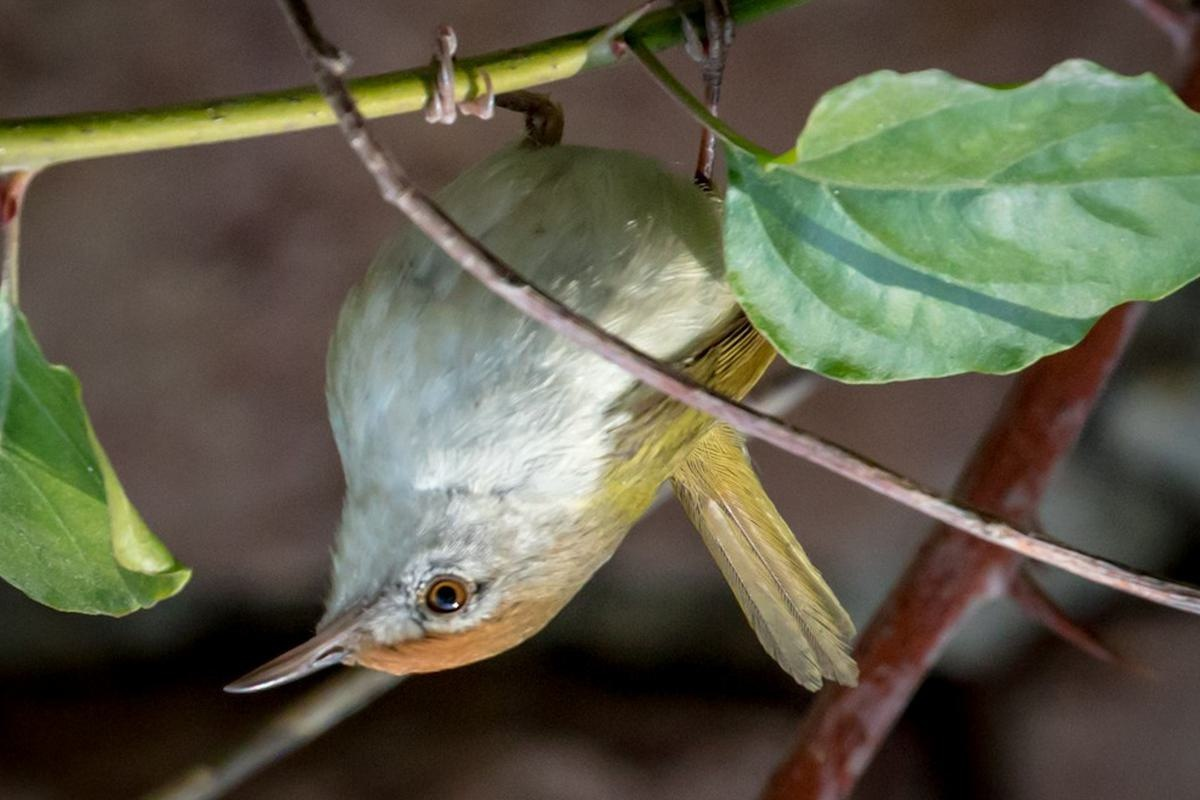tailorbird: (218, 94, 840, 761)
